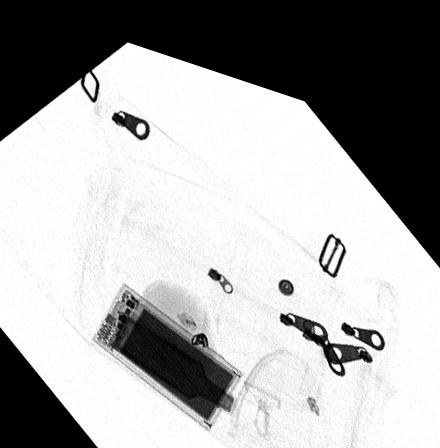Powerbank: (90, 270, 242, 417)
